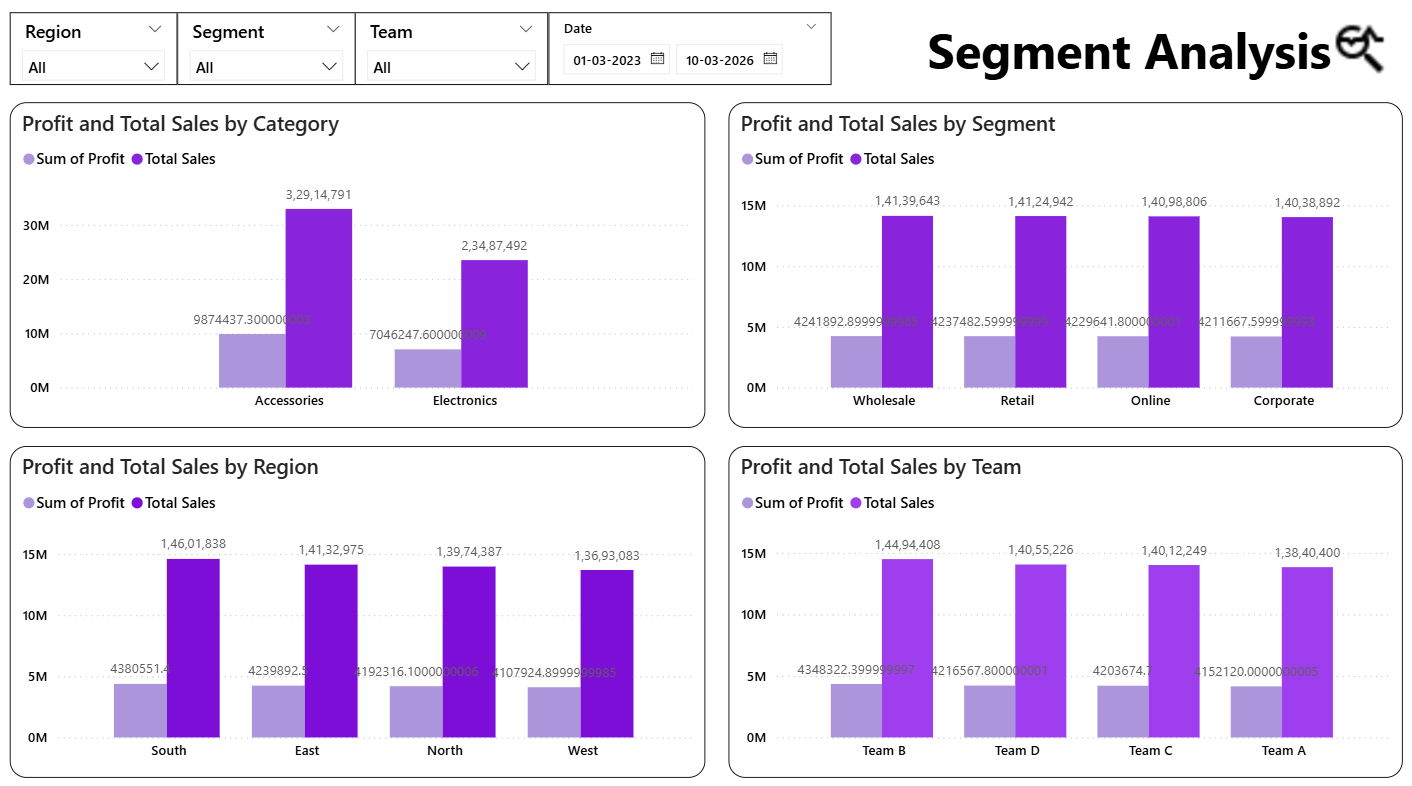

The page's visual inventory and layout, read from the dashboard file:
{"tool":"powerbi","page":{"name":"Segment Analysis","canvas":[1280,720],"ordinal":6},"visuals":[{"type":"clusteredColumnChart","title":"Profit and Total Sales by Category","fields":{"Y":["Sum(SalesData.Profit)","_All Measures.Total Sales"],"Category":["SalesData.Category"]},"box":[12.3,100.2,627.1,293.7],"z":0},{"type":"clusteredColumnChart","title":"Profit and Total Sales by Segment","fields":{"Y":["Sum(SalesData.Profit)","_All Measures.Total Sales"],"Category":["SalesData.Segment"]},"box":[660,100.2,607.9,293.7],"z":1000},{"type":"clusteredColumnChart","title":"Profit and Total Sales by Region","fields":{"Y":["Sum(SalesData.Profit)","_All Measures.Total Sales"],"Category":["SalesData.Region"]},"box":[12.3,410.3,627.1,299.1],"z":2000},{"type":"clusteredColumnChart","title":"Profit and Total Sales by Team","fields":{"Y":["Sum(SalesData.Profit)","_All Measures.Total Sales"],"Category":["SalesData.Team"]},"box":[660,410.3,607.9,299.1],"z":3000},{"type":"slicer","fields":{"Values":["Calender.Date"]},"box":[498.1,19.2,255.2,65.9],"z":4000},{"type":"slicer","fields":{"Values":["SalesData.Team"]},"box":[323.8,19.2,174.3,65.9],"z":5000},{"type":"slicer","fields":{"Values":["SalesData.Segment"]},"box":[163.3,19.2,160.5,65.9],"z":6000},{"type":"slicer","fields":{"Values":["SalesData.Region"]},"box":[12.3,19.2,150.9,65.9],"z":7000},{"type":"actionButton","box":[625.7,1.4,634,102.9],"z":8000}]}

Visuals, with their boxes in screenshot pixels (x1, y1, x2, y2), scaled from the page's 1280x720 canvas onto the 1412x786 screenshot:
"Profit and Total Sales by Category" clusteredColumnChart: pyautogui.locateOnScreen(14, 109, 705, 430)
"Profit and Total Sales by Segment" clusteredColumnChart: pyautogui.locateOnScreen(728, 109, 1399, 430)
"Profit and Total Sales by Region" clusteredColumnChart: pyautogui.locateOnScreen(14, 448, 705, 774)
"Profit and Total Sales by Team" clusteredColumnChart: pyautogui.locateOnScreen(728, 448, 1399, 774)
slicer - Calender.Date: pyautogui.locateOnScreen(549, 21, 831, 93)
slicer - SalesData.Team: pyautogui.locateOnScreen(357, 21, 549, 93)
slicer - SalesData.Segment: pyautogui.locateOnScreen(180, 21, 357, 93)
slicer - SalesData.Region: pyautogui.locateOnScreen(14, 21, 180, 93)
actionButton: pyautogui.locateOnScreen(690, 2, 1390, 114)
